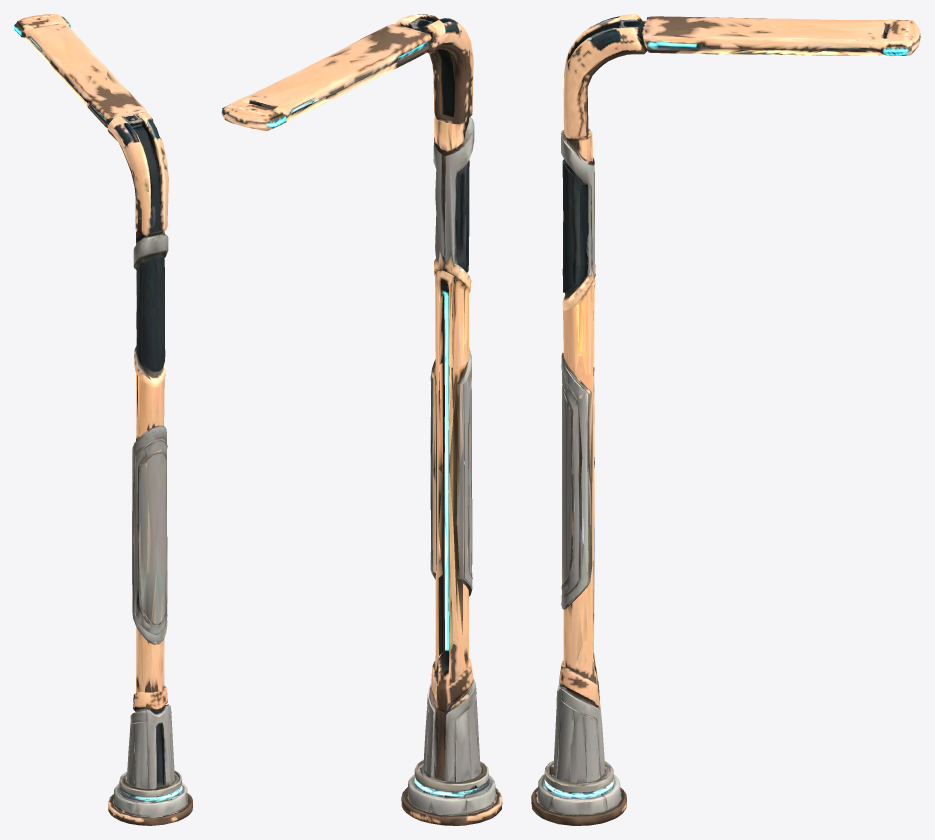
Rendered from streetlamp.glb.
The picture shows the model from 3 angles, left to right: view 1: azimuth 30°, elevation 25°; view 2: azimuth 150°, elevation 25°; view 3: azimuth 270°, elevation 25°; orthographic projection. The views are drawn at different scales.
Parts seen in each view (by area): view 1: streetlamp; view 2: streetlamp; view 3: streetlamp.
Part boxes in pixels (x1,y1,x2,y2): streetlamp: (14, 14, 192, 825); streetlamp: (221, 14, 502, 825); streetlamp: (531, 14, 920, 825).
Size of the model in its own units: 1.67 by 12 by 5.35.
Materials: 1 (1 with a texture image).
